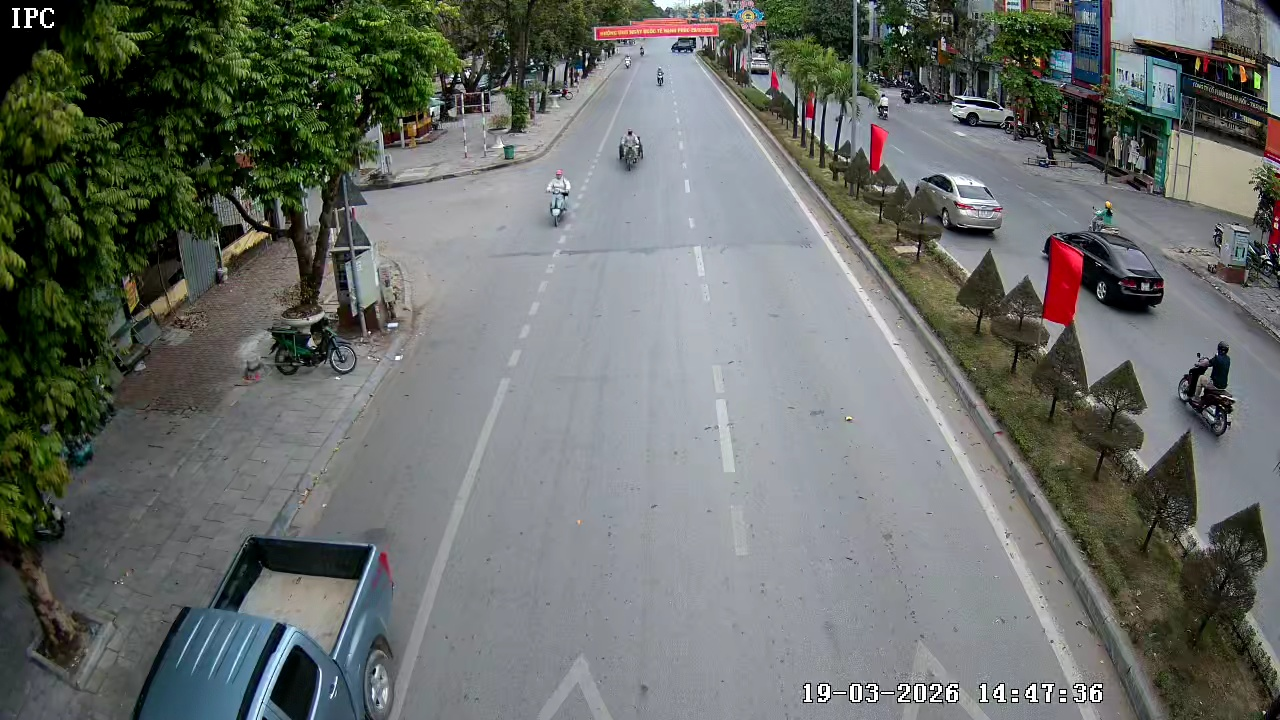car: (1048, 203, 1164, 311), (913, 171, 1004, 235)
motorbike: (260, 306, 362, 379), (1177, 340, 1237, 439), (544, 168, 574, 227), (618, 130, 649, 172), (653, 68, 670, 87)
